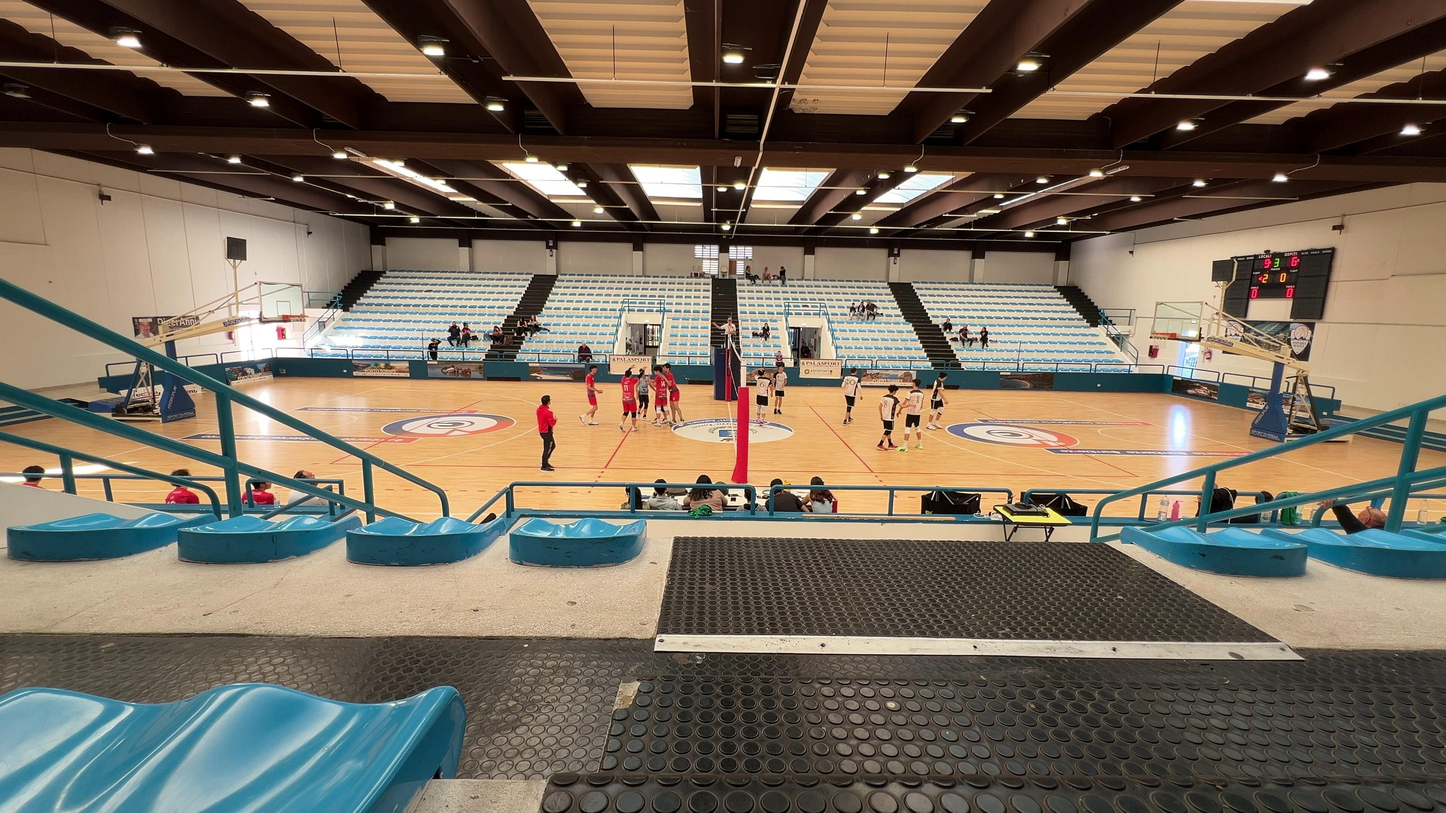volleyball court: (331, 398, 1141, 479)
